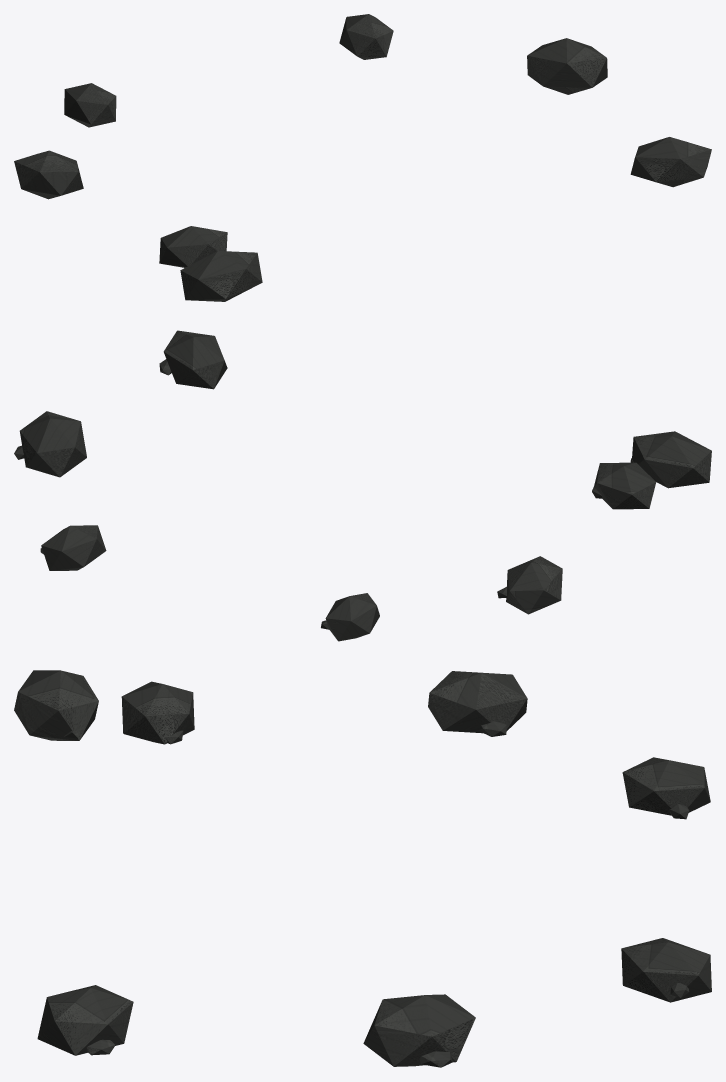
The model's file is dark_rock_shoulders.glb.
The picture shows the model from 3 angles, top to bottom: view 1: azimuth 30°, elevation 25°; view 2: azimuth 150°, elevation 25°; view 3: azimuth 270°, elevation 25°; orthographic projection. The views are drawn at different scales.
Parts seen in each view (by area): view 1: dark_rock_shoulders; view 2: dark_rock_shoulders; view 3: dark_rock_shoulders.
Boxes of the visible parts, x1,y1,x2,y2 form: dark_rock_shoulders: (14, 14, 711, 301); dark_rock_shoulders: (14, 330, 711, 641); dark_rock_shoulders: (14, 670, 711, 1067).
Bounding box in the file's own units: 60.32 × 6.29 × 48.04.
1 material, 1 textured.
